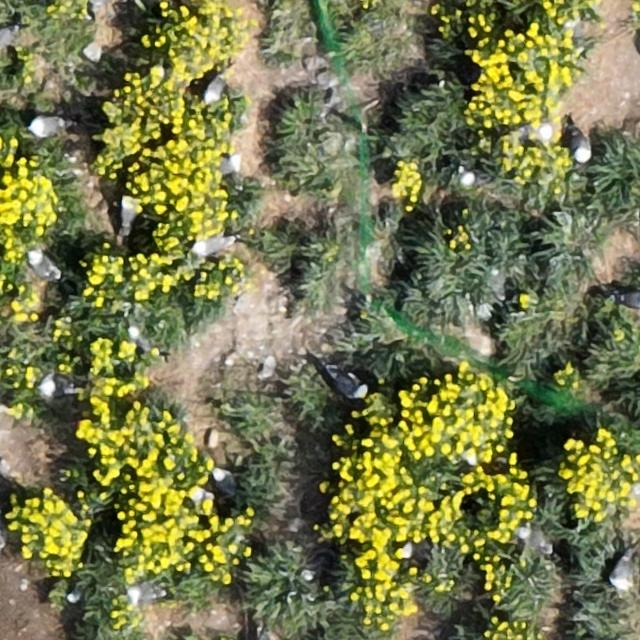umineko: (330, 371, 365, 397), (517, 528, 548, 553), (30, 252, 57, 280), (30, 116, 64, 138), (612, 555, 633, 590), (570, 128, 592, 161), (193, 234, 230, 253), (213, 468, 234, 497), (203, 76, 224, 104), (127, 584, 159, 602), (120, 196, 136, 230), (619, 291, 640, 311), (220, 155, 240, 173), (460, 170, 484, 185), (0, 25, 13, 47), (88, 0, 108, 11)
